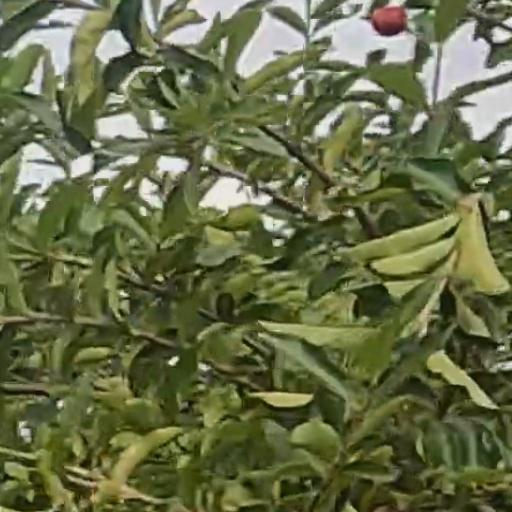acerola_vermelha: (374, 7, 406, 36)
